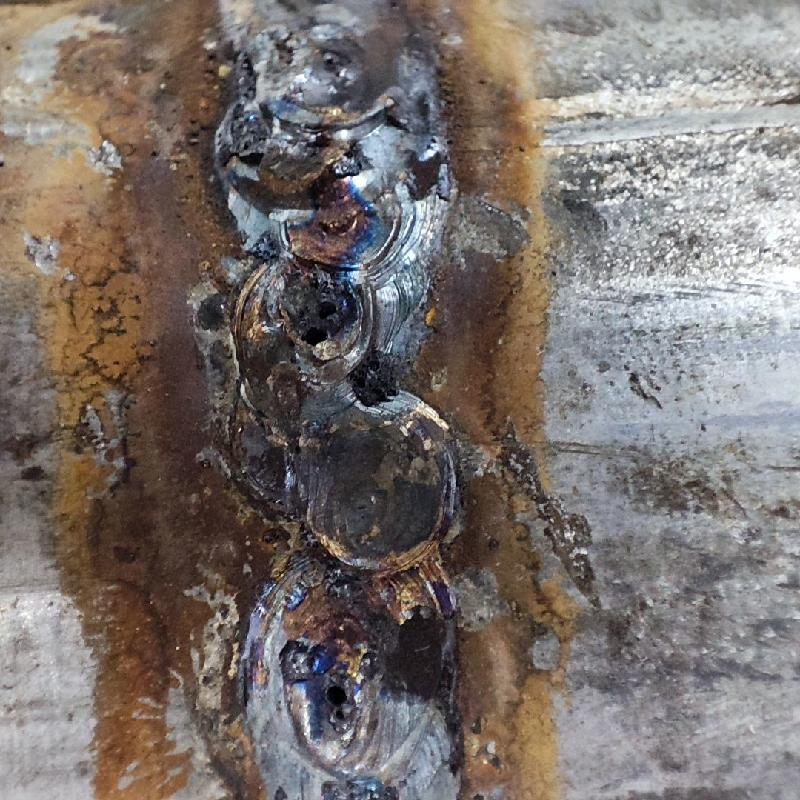Surface_pores: (280, 281, 354, 354), (308, 671, 369, 725)
crater: (238, 405, 468, 795), (229, 25, 415, 394)
